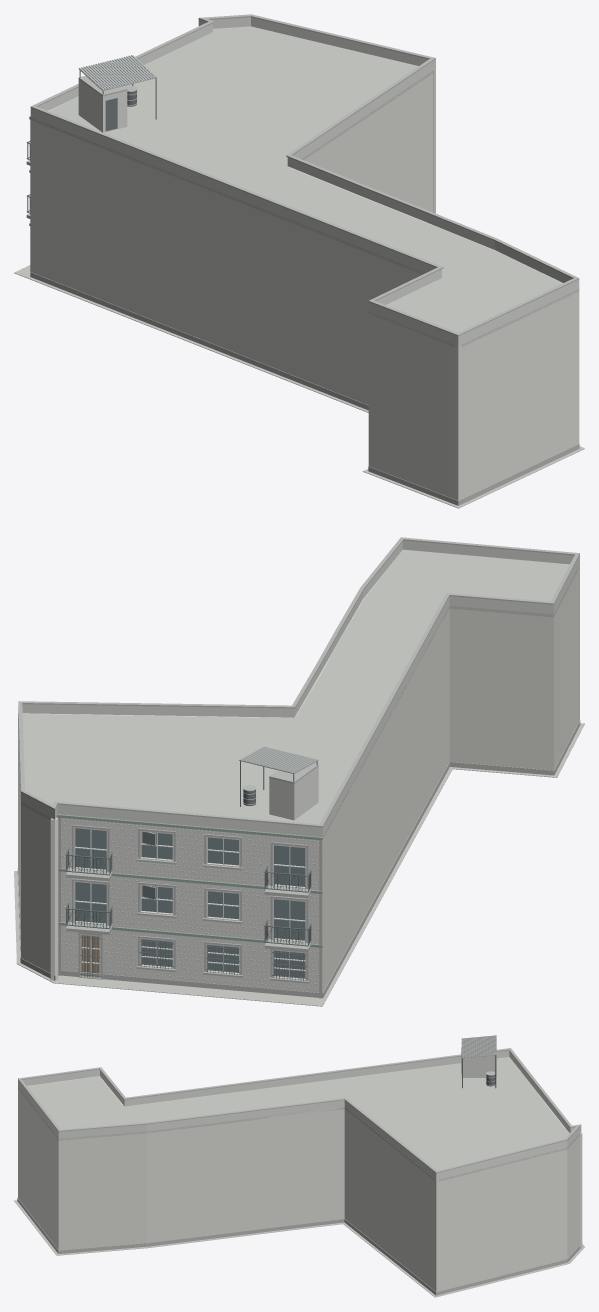
The model's file is lot_1135743.glb.
The picture shows the model from 3 angles, top to bottom: view 1: azimuth 30°, elevation 25°; view 2: azimuth 150°, elevation 25°; view 3: azimuth 270°, elevation 25°; orthographic projection. The views are drawn at different scales.
Visible parts, largest first — view 1: wall_23, roof_slab_11, wall_13, wall_12, parapet_0, wall_18, parapet_cap_2, plinth_2, lot_paving_11, rooftop_room_0, canopy_sheet_8, corrugation_2; view 2: roof_slab_11, wall_22, wall_23, wall_24, parapet_0, parapet_cap_2, wall_20, cladding_joint_2, window_panel_4, balcony_window_panel_4, lot_paving_11, wall_12 (+17 smaller); view 3: roof_slab_11, wall_19, wall_18, wall_14, wall_17, parapet_0, wall_15, wall_16, wall_13, parapet_cap_2, plinth_2, lot_paving_11 (+5 smaller).
Boxes of the visible parts, bbox=[...] form: wall_23: bbox=[30, 118, 424, 404]; roof_slab_11: bbox=[30, 26, 579, 347]; wall_13: bbox=[455, 290, 579, 500]; wall_12: bbox=[368, 312, 461, 500]; parapet_0: bbox=[30, 17, 579, 345]; wall_18: bbox=[302, 72, 433, 212]; parapet_cap_2: bbox=[30, 14, 579, 336]; plinth_2: bbox=[30, 272, 579, 505]; lot_paving_11: bbox=[14, 265, 584, 508]; rooftop_room_0: bbox=[78, 79, 127, 132]; canopy_sheet_8: bbox=[79, 55, 157, 90]; corrugation_2: bbox=[79, 55, 155, 90]; roof_slab_11: bbox=[18, 549, 578, 838]; wall_22: bbox=[58, 818, 322, 992]; wall_23: bbox=[322, 607, 449, 992]; wall_24: bbox=[449, 606, 553, 770]; parapet_0: bbox=[18, 540, 579, 836]; parapet_cap_2: bbox=[18, 537, 579, 827]; wall_20: bbox=[21, 803, 58, 979]; cladding_joint_2: bbox=[61, 819, 322, 989]; window_panel_4: bbox=[141, 832, 305, 977]; balcony_window_panel_4: bbox=[75, 828, 305, 940]; lot_paving_11: bbox=[14, 723, 584, 1006]; wall_12: bbox=[554, 567, 578, 769]; roof_slab_11: bbox=[18, 1057, 579, 1181]; wall_19: bbox=[434, 1148, 567, 1291]; wall_18: bbox=[344, 1109, 438, 1291]; wall_14: bbox=[58, 1131, 146, 1250]; wall_17: bbox=[273, 1107, 344, 1227]; parapet_0: bbox=[18, 1050, 581, 1180]; wall_15: bbox=[147, 1124, 212, 1242]; wall_16: bbox=[212, 1116, 272, 1234]; wall_13: bbox=[18, 1089, 58, 1249]; parapet_cap_2: bbox=[18, 1048, 581, 1173]; plinth_2: bbox=[17, 1198, 580, 1295]; lot_paving_11: bbox=[14, 1200, 584, 1297].
Size of the model in its own units: 20.16 by 10.88 by 37.62.
